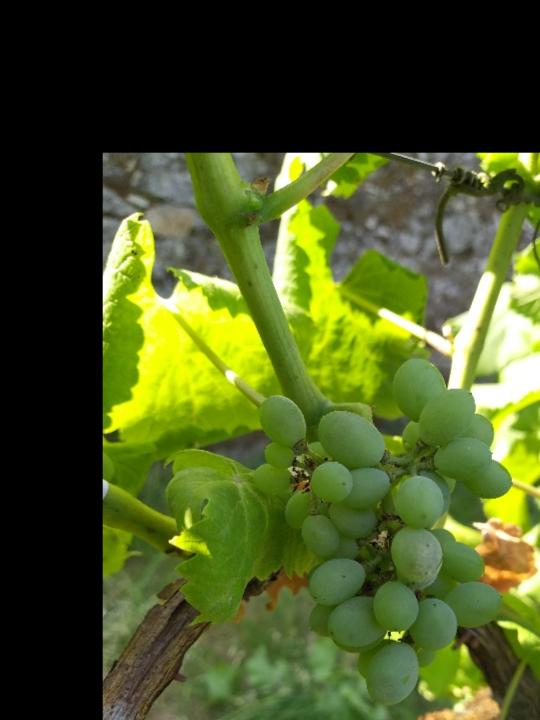grape: (252, 353, 515, 714)
